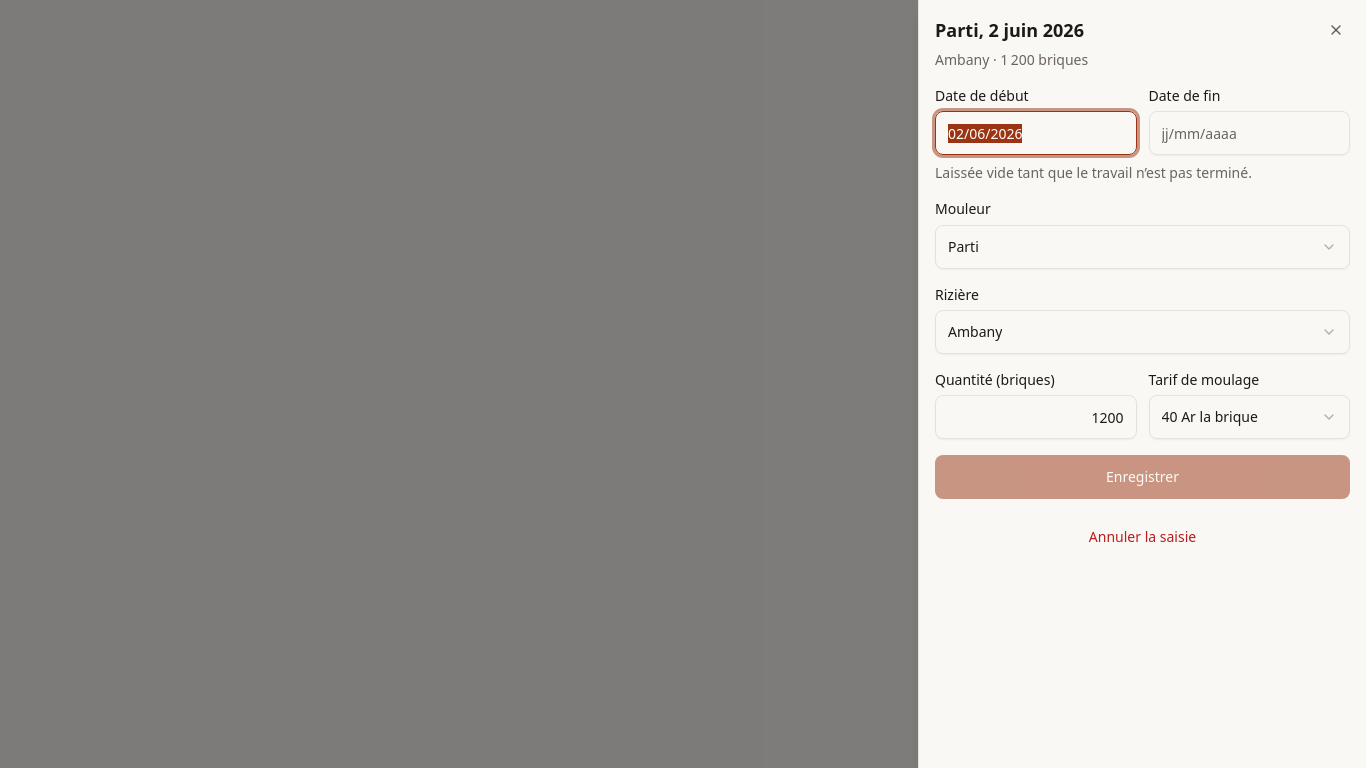
Test: ProductionPage › lets the end date be fixed once the work is finished
This screenshot has width=1366, height=768.
In the field labelled "Date de fin": (1249, 133) [1148,111,1350,155], type "03/06/2026"
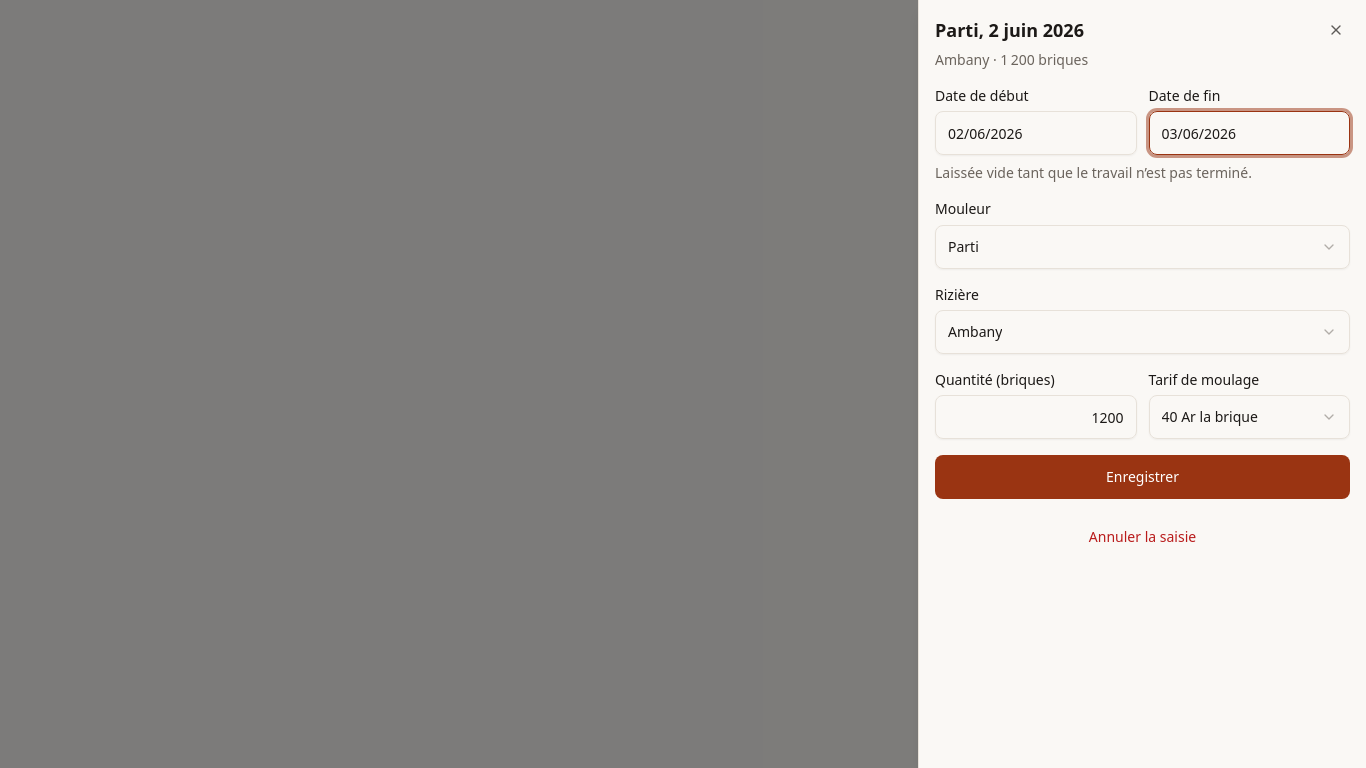
Click the button "Enregistrer": (1142, 477) [935,455,1350,499]
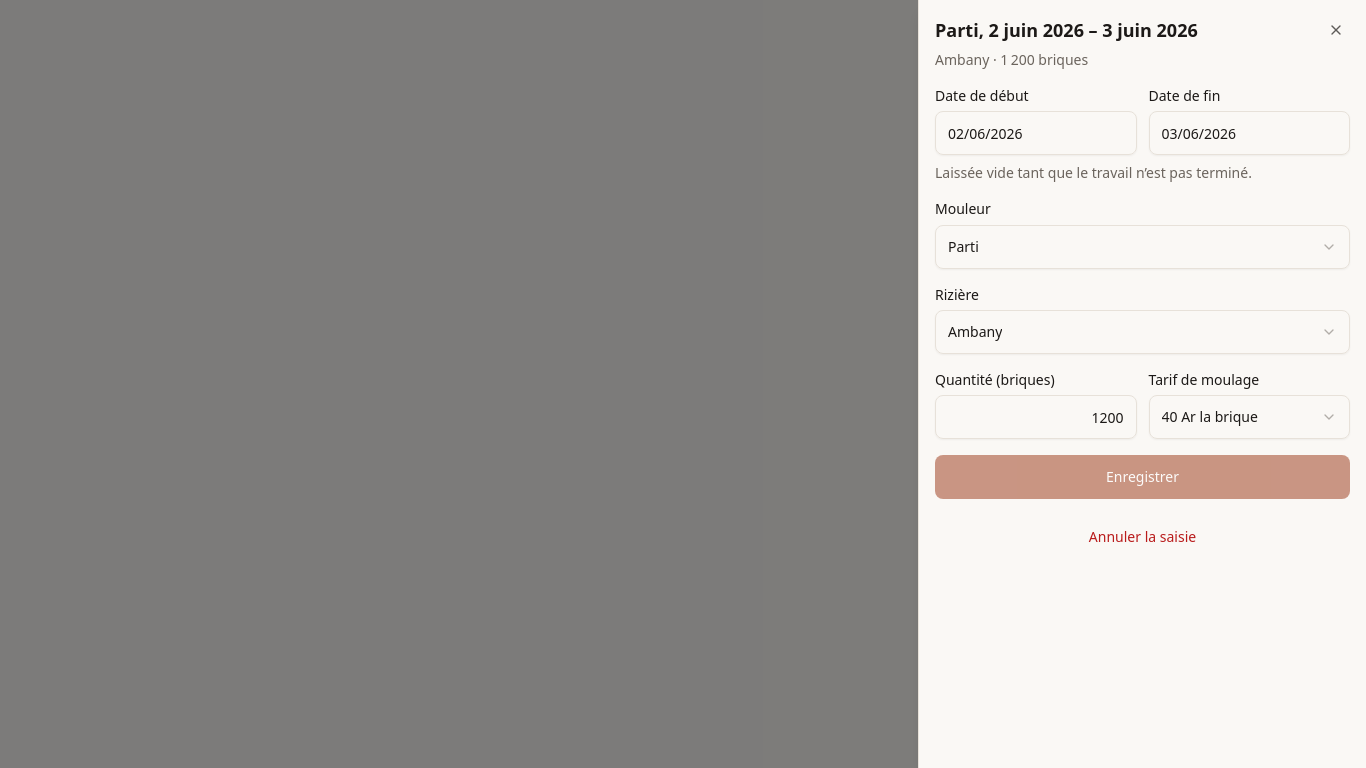
Check: the heading "Parti, 2 juin 2026 – 3 juin 2026" is shown, box [935,18,1198,42]
